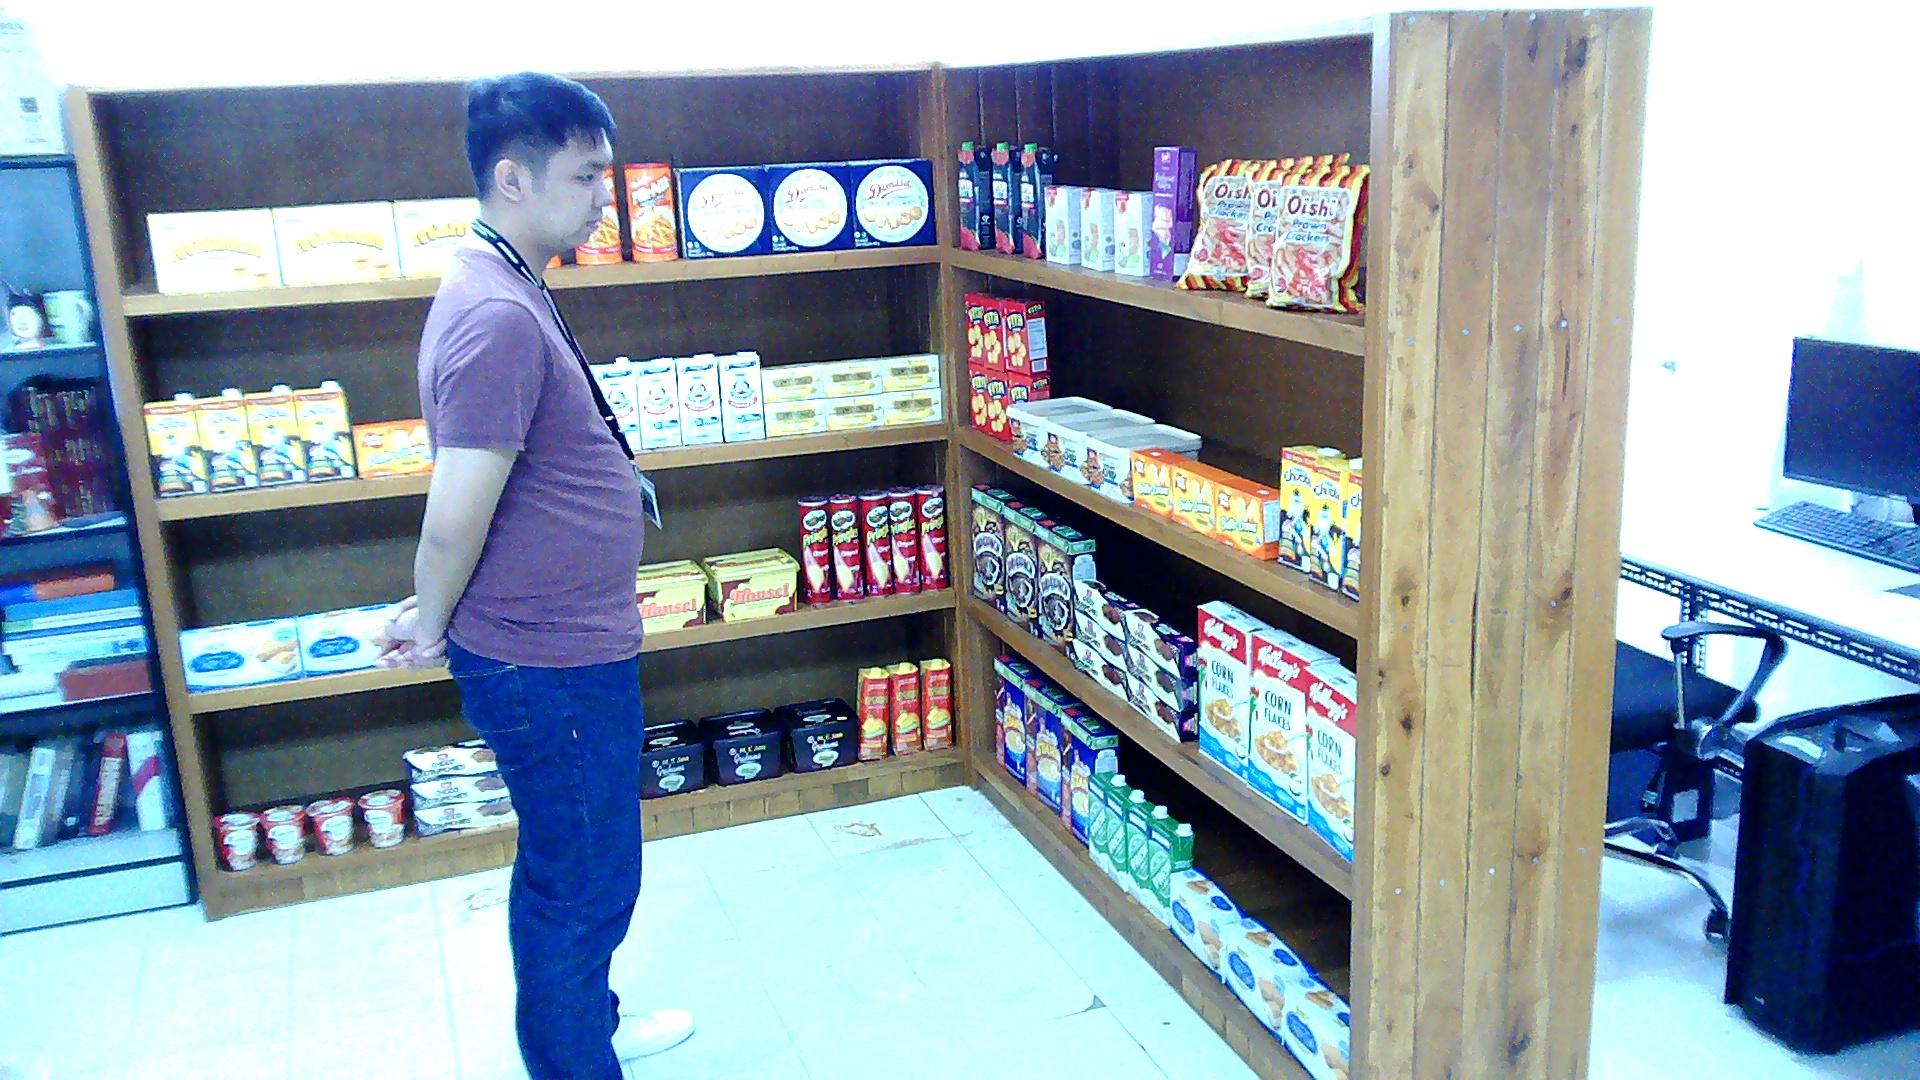Bear brand: (587, 358, 638, 450), (717, 351, 765, 441), (675, 353, 723, 443), (636, 358, 681, 448)
Buttercake: (1224, 916, 1317, 1044), (177, 617, 303, 693), (1170, 866, 1248, 981), (297, 603, 393, 677), (1280, 976, 1349, 1077)
Butterlicious: (1215, 472, 1278, 558), (350, 416, 431, 477), (1170, 458, 1230, 537), (1131, 445, 1185, 517)
Camomille: (822, 358, 882, 396), (762, 362, 822, 400), (882, 351, 939, 389), (765, 398, 825, 434), (882, 387, 939, 423), (824, 394, 881, 430)
Choco Crunchies: (1125, 673, 1197, 743), (1122, 607, 1194, 677), (1125, 643, 1197, 711), (1070, 576, 1139, 639), (411, 797, 519, 837), (402, 738, 495, 783), (407, 770, 506, 808), (1073, 607, 1124, 668), (1073, 638, 1124, 699), (255, 803, 303, 864)
Chocolate Chips: (1083, 422, 1203, 501), (1041, 408, 1155, 484), (1004, 396, 1109, 468)
Chuckie: (1278, 443, 1344, 571), (1308, 456, 1362, 589), (141, 391, 207, 497), (192, 387, 258, 490), (243, 382, 306, 483), (294, 380, 354, 481), (1340, 467, 1361, 602)
Danisa: (678, 164, 771, 258), (765, 162, 852, 252), (849, 160, 936, 248)
Fita: (1002, 296, 1050, 375), (962, 290, 995, 362), (981, 297, 1005, 371), (984, 369, 1008, 439), (1008, 371, 1050, 403), (966, 360, 984, 432)
Fresh Milk: (1146, 817, 1194, 927), (1125, 801, 1167, 907), (1103, 783, 1142, 891), (1089, 771, 1125, 872)
Grahams: (696, 706, 786, 785), (774, 696, 858, 772), (638, 717, 707, 798)
Hansel: (699, 547, 798, 621), (633, 558, 708, 632)
Head: (449, 72, 620, 261)
Honey Stars: (1058, 704, 1115, 848), (1022, 675, 1079, 815), (993, 652, 1044, 785)
Kellogg Corn Flakes: (1244, 628, 1337, 824), (1197, 601, 1272, 783), (1302, 661, 1356, 866)
Kimchi Noodles: (210, 809, 258, 868), (306, 794, 354, 855), (357, 787, 405, 846)
Koko Krunch: (1035, 515, 1095, 661), (969, 482, 1020, 612), (1004, 499, 1049, 634)
Locally Mango: (885, 662, 921, 756), (918, 657, 951, 749), (854, 666, 887, 758)
Mamon: (143, 207, 278, 290), (270, 200, 399, 286), (393, 197, 477, 276)
Oishi Prawn: (1262, 161, 1367, 312), (1242, 151, 1350, 297), (1173, 157, 1248, 290)
Pik-nik: (623, 161, 674, 260), (576, 204, 621, 263)
Pringles: (828, 493, 864, 601), (858, 486, 891, 596), (798, 495, 831, 603), (914, 484, 947, 590), (888, 486, 918, 594)
Super Fruits: (1020, 141, 1056, 258), (957, 140, 993, 250), (990, 141, 1020, 254)
Wafer: (1149, 146, 1197, 281)
iHop: (1113, 189, 1149, 275), (1044, 184, 1080, 263), (1080, 186, 1113, 269)
